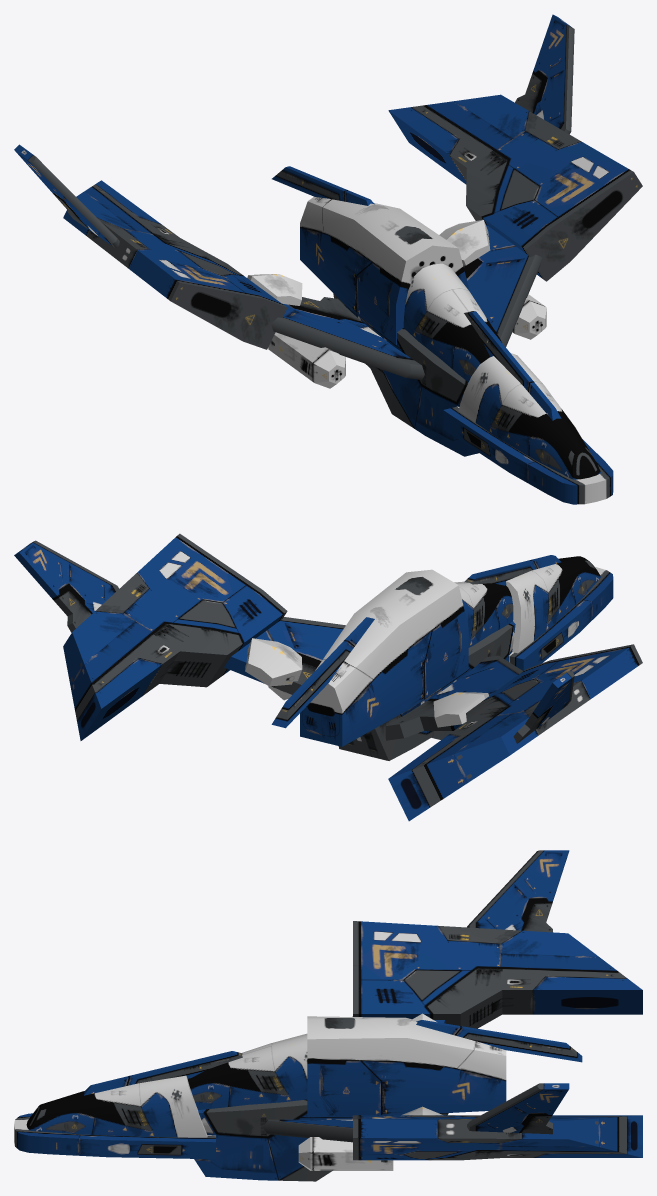
File: MeteorMantis_Blue.glb
3 views of the same model, one above another, from view 1: azimuth 30°, elevation 25°; view 2: azimuth 150°, elevation 25°; view 3: azimuth 270°, elevation 25° (orthographic). The views are drawn at different scales.
Visible parts, largest first — view 1: MeteorMantis19; view 2: MeteorMantis19; view 3: MeteorMantis19.
Boxes of the visible parts, left/top/right/bottom form: MeteorMantis19: left=14, top=14, right=642, bottom=504; MeteorMantis19: left=14, top=533, right=642, bottom=821; MeteorMantis19: left=14, top=850, right=642, bottom=1181.
Size of the model in its own units: 10.73 by 4.19 by 12.
Materials: 1 (1 with a texture image).
